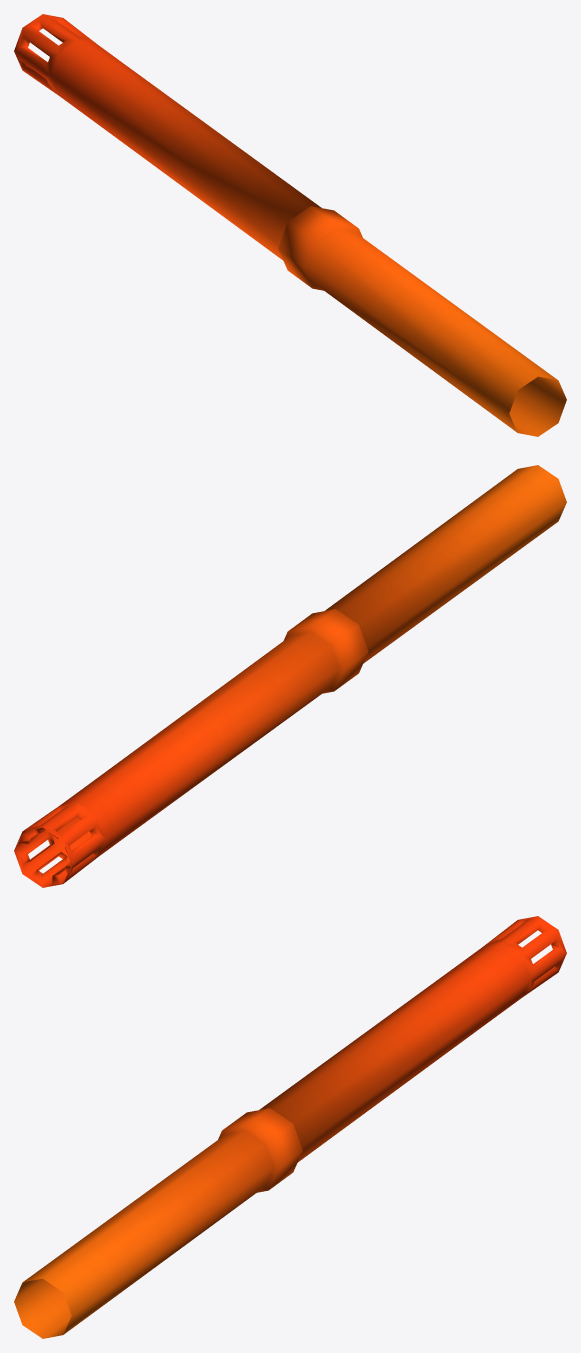
File: BarrelOverheat.fbx
3 renders of one model, top to bottom at view 1: azimuth 30°, elevation 25°; view 2: azimuth 150°, elevation 25°; view 3: azimuth 330°, elevation 25°, orthographic.
Parts seen in each view (by area): view 1: Circle.051; view 2: Circle.051; view 3: Circle.051.
Part boxes in pixels (box(x1,y1,x2,y2)): Circle.051: box(14, 14, 566, 436); Circle.051: box(14, 465, 566, 887); Circle.051: box(14, 916, 566, 1338).
Size of the model in its own units: 3.71 by 3.71 by 48.3.
Materials: 1 (1 with a texture image).
